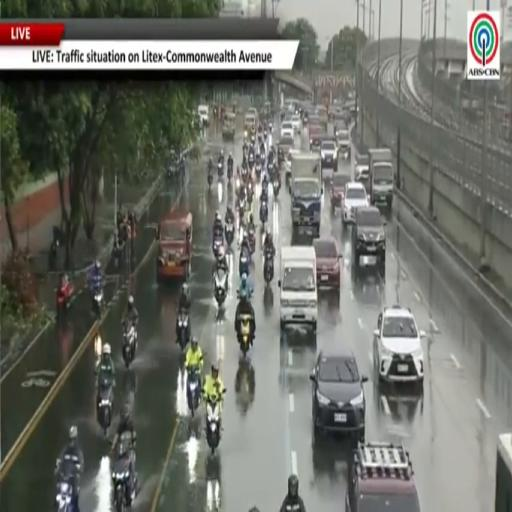bus: (495, 434, 511, 511)
car: (310, 344, 368, 442), (346, 442, 420, 511), (373, 304, 425, 386), (352, 206, 386, 280), (313, 237, 342, 291), (342, 182, 368, 223), (330, 174, 347, 210), (321, 139, 338, 171), (285, 149, 300, 182), (336, 128, 350, 159), (278, 137, 294, 159), (309, 125, 321, 151), (355, 164, 369, 184), (280, 121, 294, 138), (198, 105, 209, 125), (307, 114, 320, 129), (291, 115, 301, 133)
jeepney: (157, 211, 192, 282), (223, 112, 235, 140)
motorcycle: (111, 439, 136, 511), (56, 457, 80, 511), (97, 377, 112, 435), (207, 397, 220, 455), (187, 366, 200, 417), (57, 282, 73, 321), (123, 324, 136, 367), (56, 480, 74, 511), (239, 315, 252, 356), (214, 269, 227, 307), (177, 310, 189, 350), (92, 286, 104, 317), (48, 239, 59, 271), (239, 249, 250, 278), (264, 255, 273, 285), (213, 233, 223, 259), (224, 221, 234, 247), (260, 201, 268, 228), (248, 227, 255, 254), (247, 182, 253, 207), (207, 170, 213, 188), (273, 179, 279, 197), (255, 162, 261, 180), (227, 164, 233, 181), (248, 153, 254, 170), (218, 162, 223, 180), (264, 130, 268, 141), (268, 123, 272, 134)
truck: (289, 153, 323, 237), (367, 149, 393, 207), (351, 139, 369, 188)
